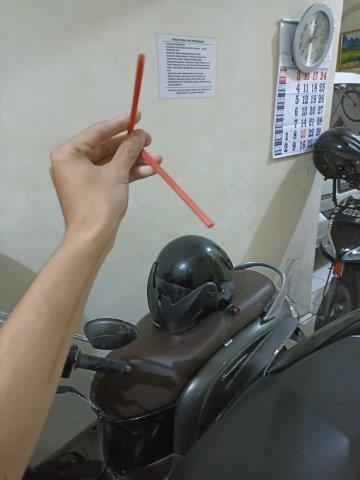sedotan: (128, 56, 212, 226)
